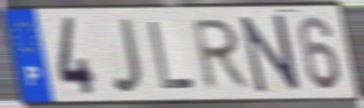4: (55, 14, 98, 99)
6: (296, 14, 341, 93)
J: (108, 16, 145, 97)
L: (146, 19, 198, 92)
N: (238, 12, 303, 96)
R: (190, 16, 253, 93)
